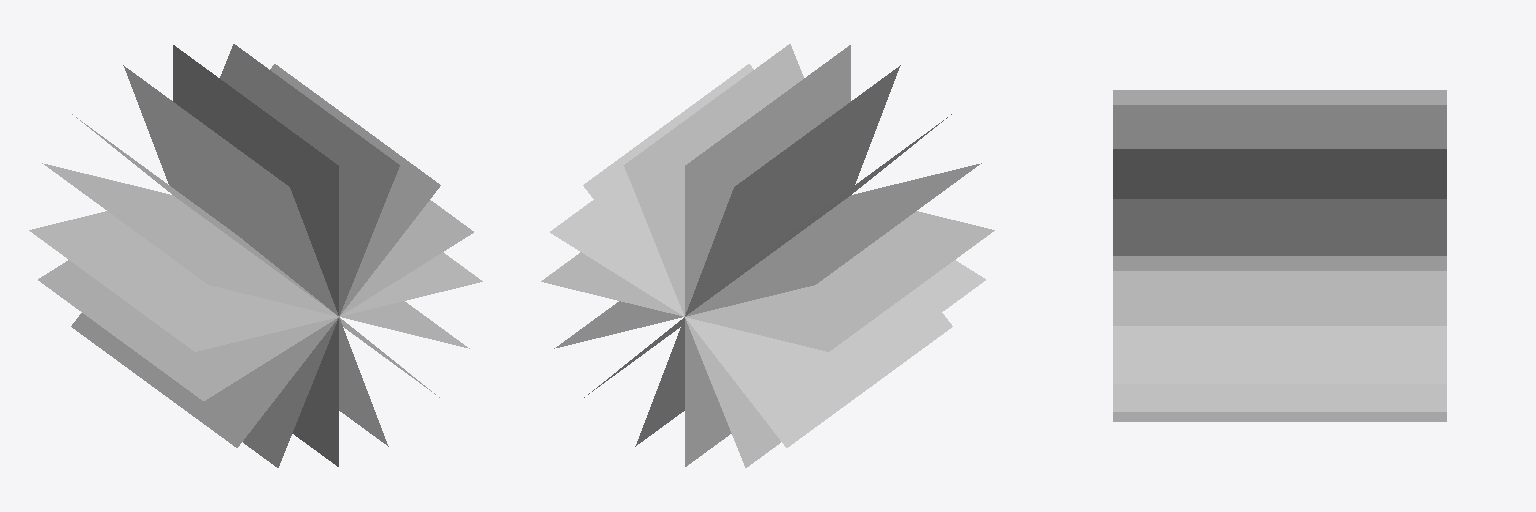
File: fan.obj
3 renders of one model, left to right at view 1: azimuth 30°, elevation 25°; view 2: azimuth 150°, elevation 25°; view 3: azimuth 270°, elevation 25°, orthographic.
Visible parts, largest first — view 1: cross, cross.002, cross.003, cross.001; view 2: cross, cross.002, cross.003, cross.001; view 3: cross.003, cross, cross.001, cross.002.
Boxes of the visible parts, box(x1,y1,x2,y2) form: cross: box(29, 45, 482, 466); cross.002: box(38, 65, 473, 446); cross.003: box(42, 44, 469, 467); cross.001: box(71, 64, 440, 447); cross: box(541, 45, 994, 466); cross.002: box(550, 65, 985, 446); cross.003: box(554, 44, 981, 467); cross.001: box(583, 64, 952, 447); cross.003: box(1113, 149, 1446, 383); cross: box(1113, 105, 1446, 325); cross.001: box(1113, 199, 1446, 411); cross.002: box(1113, 90, 1446, 421).
Size of the model in its own units: 2 by 2 by 2.